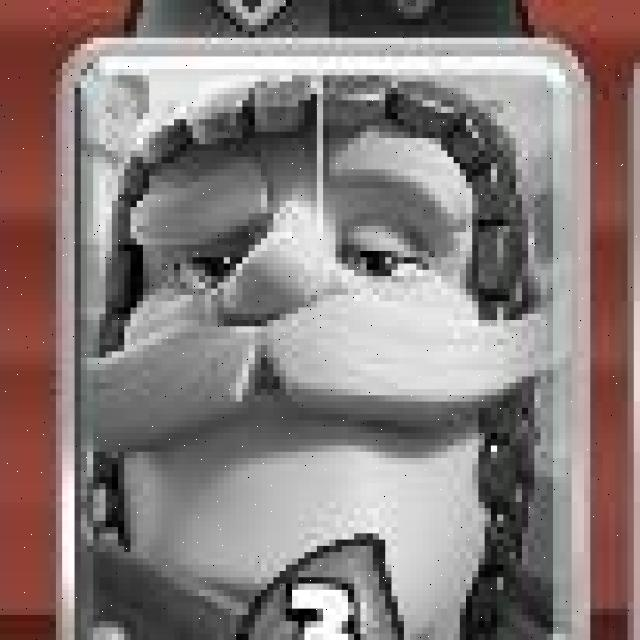Knight: (58, 45, 590, 640)
